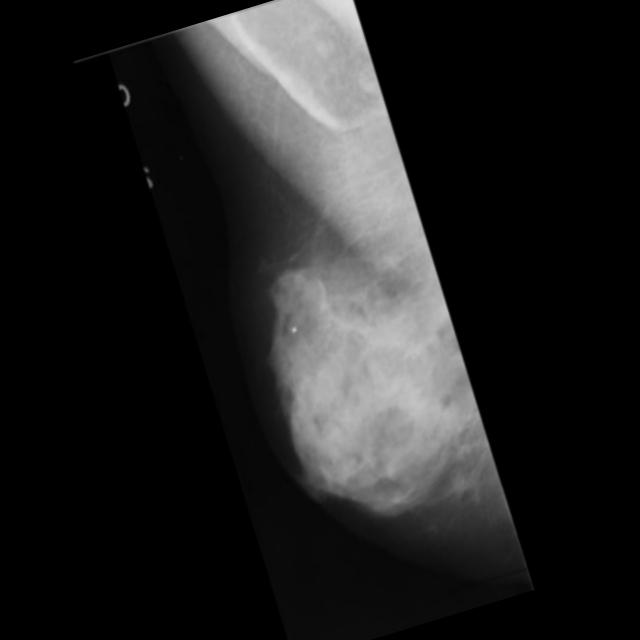CALC: (310, 314, 354, 358)
